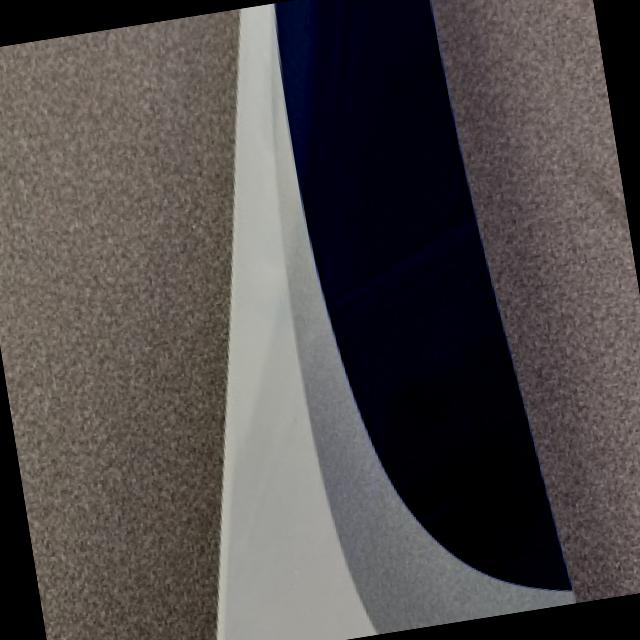healthy: (219, 3, 574, 640), (220, 524, 375, 640)
